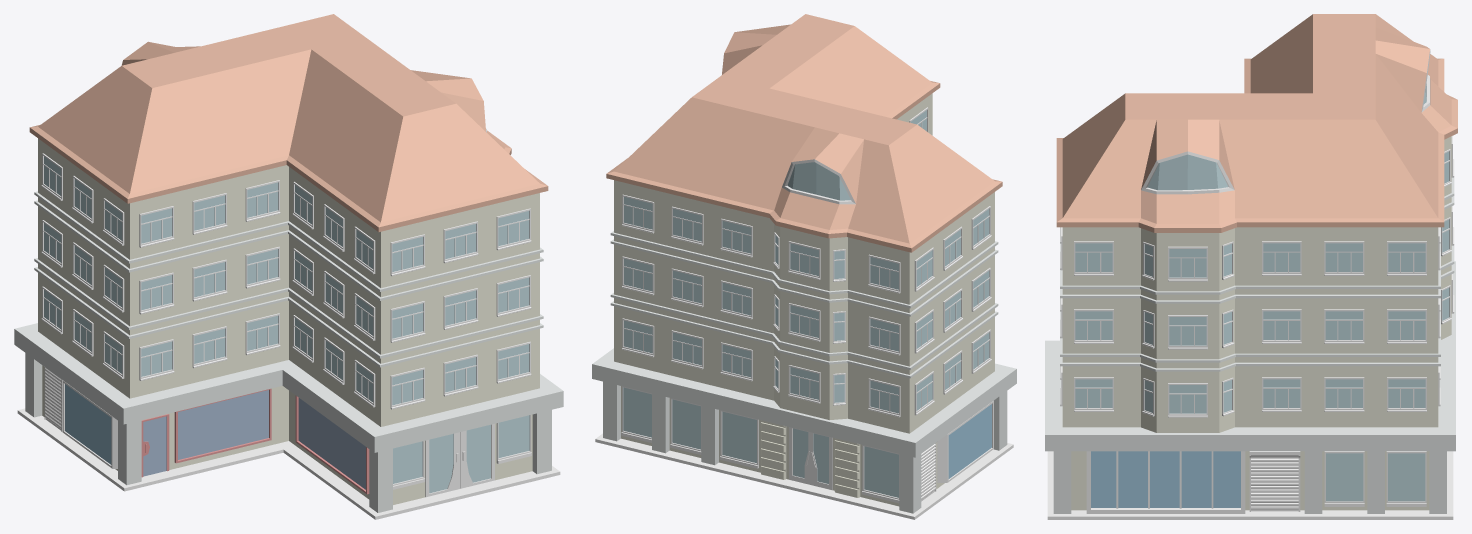
The model's file is batiment V2.fbx.
3 views of the same model, side by side, from view 1: azimuth 30°, elevation 25°; view 2: azimuth 150°, elevation 25°; view 3: azimuth 270°, elevation 25° (orthographic). The views are drawn at different scales.
Parts seen in each view (by area): view 1: Building_facad, Cube_18_2, Cube_19_2, showcase, Cube_24_2, Cube_24, Cube_13, Cube_15, Cube_20_2, Cube_14, Cube_25_2, Cube_26_2 (+22 smaller); view 2: Building_facad, showcase, Cube_8_26, Cube_22_2, Cube_11_2, Cube_12, Cube_7_2, Cube_6_2, Cube_11, Cube_5, Cube_1_2, Cube_2_3 (+18 smaller); view 3: Building_facad, showcase1, blinds_2, Cube_10_2, Cube_9_2, Cube_4_2, Cube_14, Cube_2_3, Cube_3_2, glass_48, glass_58, glass_59 (+29 smaller).
Boxes of the visible parts, bbox=[...] form: Building_facad: bbox=[14, 14, 563, 519]; Cube_18_2: bbox=[178, 390, 268, 459]; Cube_19_2: bbox=[298, 398, 365, 489]; showcase: bbox=[62, 380, 117, 468]; Cube_24_2: bbox=[429, 424, 490, 493]; Cube_24: bbox=[425, 423, 494, 497]; Cube_13: bbox=[118, 420, 141, 485]; Cube_15: bbox=[369, 448, 392, 512]; Cube_20_2: bbox=[143, 416, 166, 476]; Cube_14: bbox=[532, 410, 551, 474]; Cube_25_2: bbox=[498, 415, 529, 457]; Cube_26_2: bbox=[393, 441, 422, 483]; Building_facad: bbox=[592, 14, 1016, 519]; showcase: bbox=[937, 400, 993, 482]; Cube_8_26: bbox=[722, 411, 756, 463]; Cube_22_2: bbox=[864, 446, 898, 497]; Cube_11_2: bbox=[793, 428, 828, 483]; Cube_12: bbox=[899, 454, 921, 513]; Cube_7_2: bbox=[672, 399, 700, 449]; Cube_6_2: bbox=[623, 387, 651, 437]; Cube_11: bbox=[789, 427, 832, 490]; Cube_5: bbox=[701, 405, 718, 465]; Cube_1_2: bbox=[652, 393, 669, 453]; Cube_2_3: bbox=[603, 381, 620, 441]; Building_facad: bbox=[1045, 14, 1457, 519]; showcase1: bbox=[1086, 451, 1245, 513]; blinds_2: bbox=[1249, 451, 1300, 511]; Cube_10_2: bbox=[1326, 453, 1363, 501]; Cube_9_2: bbox=[1388, 453, 1425, 501]; Cube_4_2: bbox=[1304, 451, 1322, 513]; Cube_14: bbox=[1053, 451, 1071, 513]; Cube_2_3: bbox=[1429, 451, 1446, 513]; Cube_3_2: bbox=[1367, 451, 1384, 513]; glass_48: bbox=[1325, 243, 1362, 271]; glass_58: bbox=[1169, 249, 1206, 277]; glass_59: bbox=[1169, 317, 1206, 345].
Size of the model in its own units: 4183 by 4108 by 4185.
